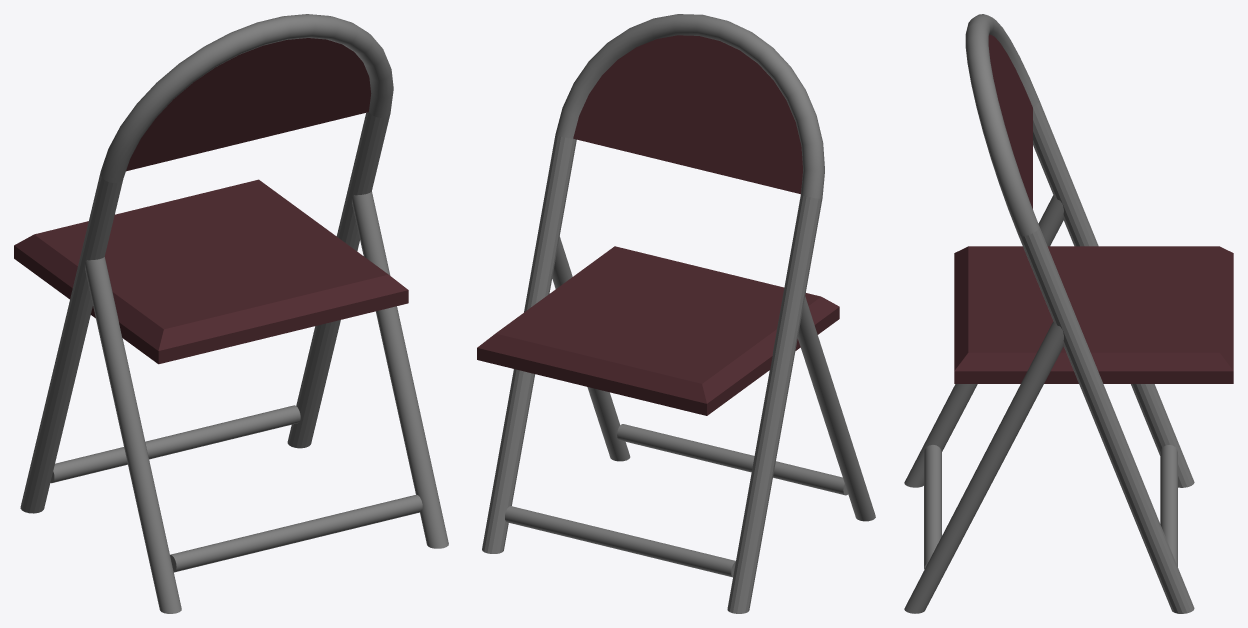
Rendered from chair.fbx.
3 views of the same model, side by side, from view 1: azimuth 30°, elevation 25°; view 2: azimuth 150°, elevation 25°; view 3: azimuth 270°, elevation 25° (orthographic). The views are drawn at different scales.
Parts seen in each view (by area): view 1: polySurface1; view 2: polySurface1; view 3: polySurface1.
Part boxes in pixels (box(x1,y1,x2,y2)): polySurface1: box(14, 14, 448, 613); polySurface1: box(477, 14, 875, 613); polySurface1: box(904, 14, 1233, 613).
Bounding box in the file's own units: 3.9 × 6.91 × 3.99.
